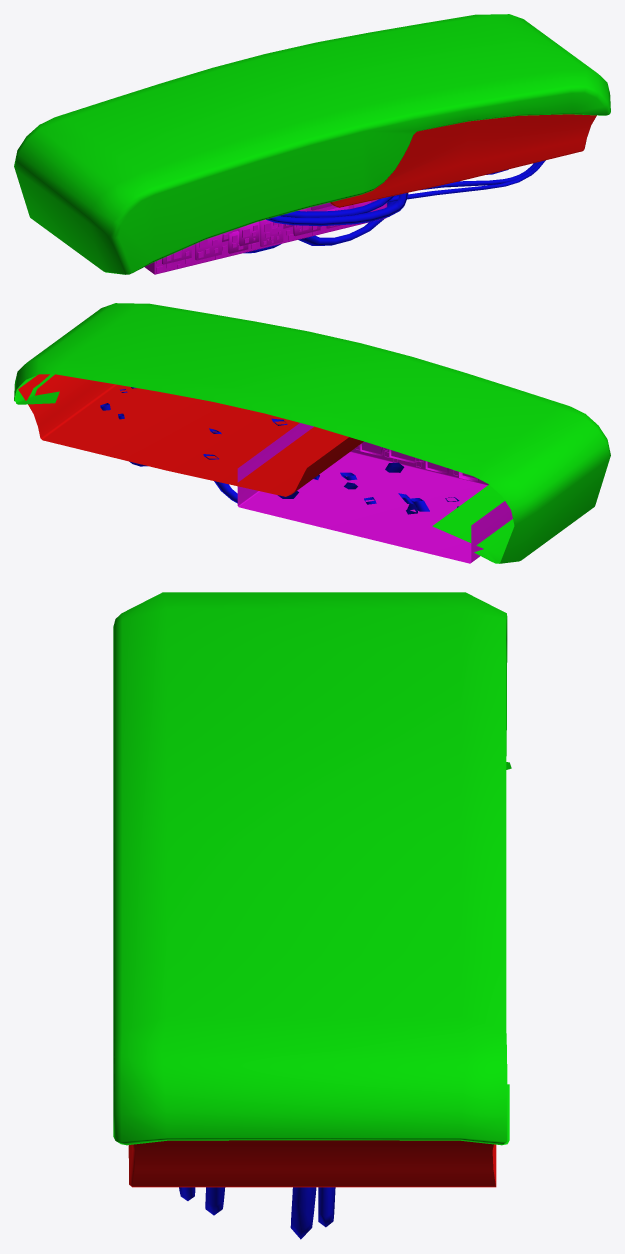
File: breakoutHitter.fbx
3 views of the same model, one above another, from view 1: azimuth 30°, elevation 25°; view 2: azimuth 150°, elevation 25°; view 3: azimuth 270°, elevation 25° (orthographic). The views are drawn at different scales.
Visible parts, largest first — view 1: hitterThing_detail2; view 2: hitterThing_detail2; view 3: hitterThing_detail2.
Boxes of the visible parts, x1,y1,x2,y2 form: hitterThing_detail2: (14, 14, 610, 274); hitterThing_detail2: (14, 303, 610, 563); hitterThing_detail2: (113, 592, 511, 1239).
Bounding box in the file's own units: 3 × 0.9914 × 0.7828.
